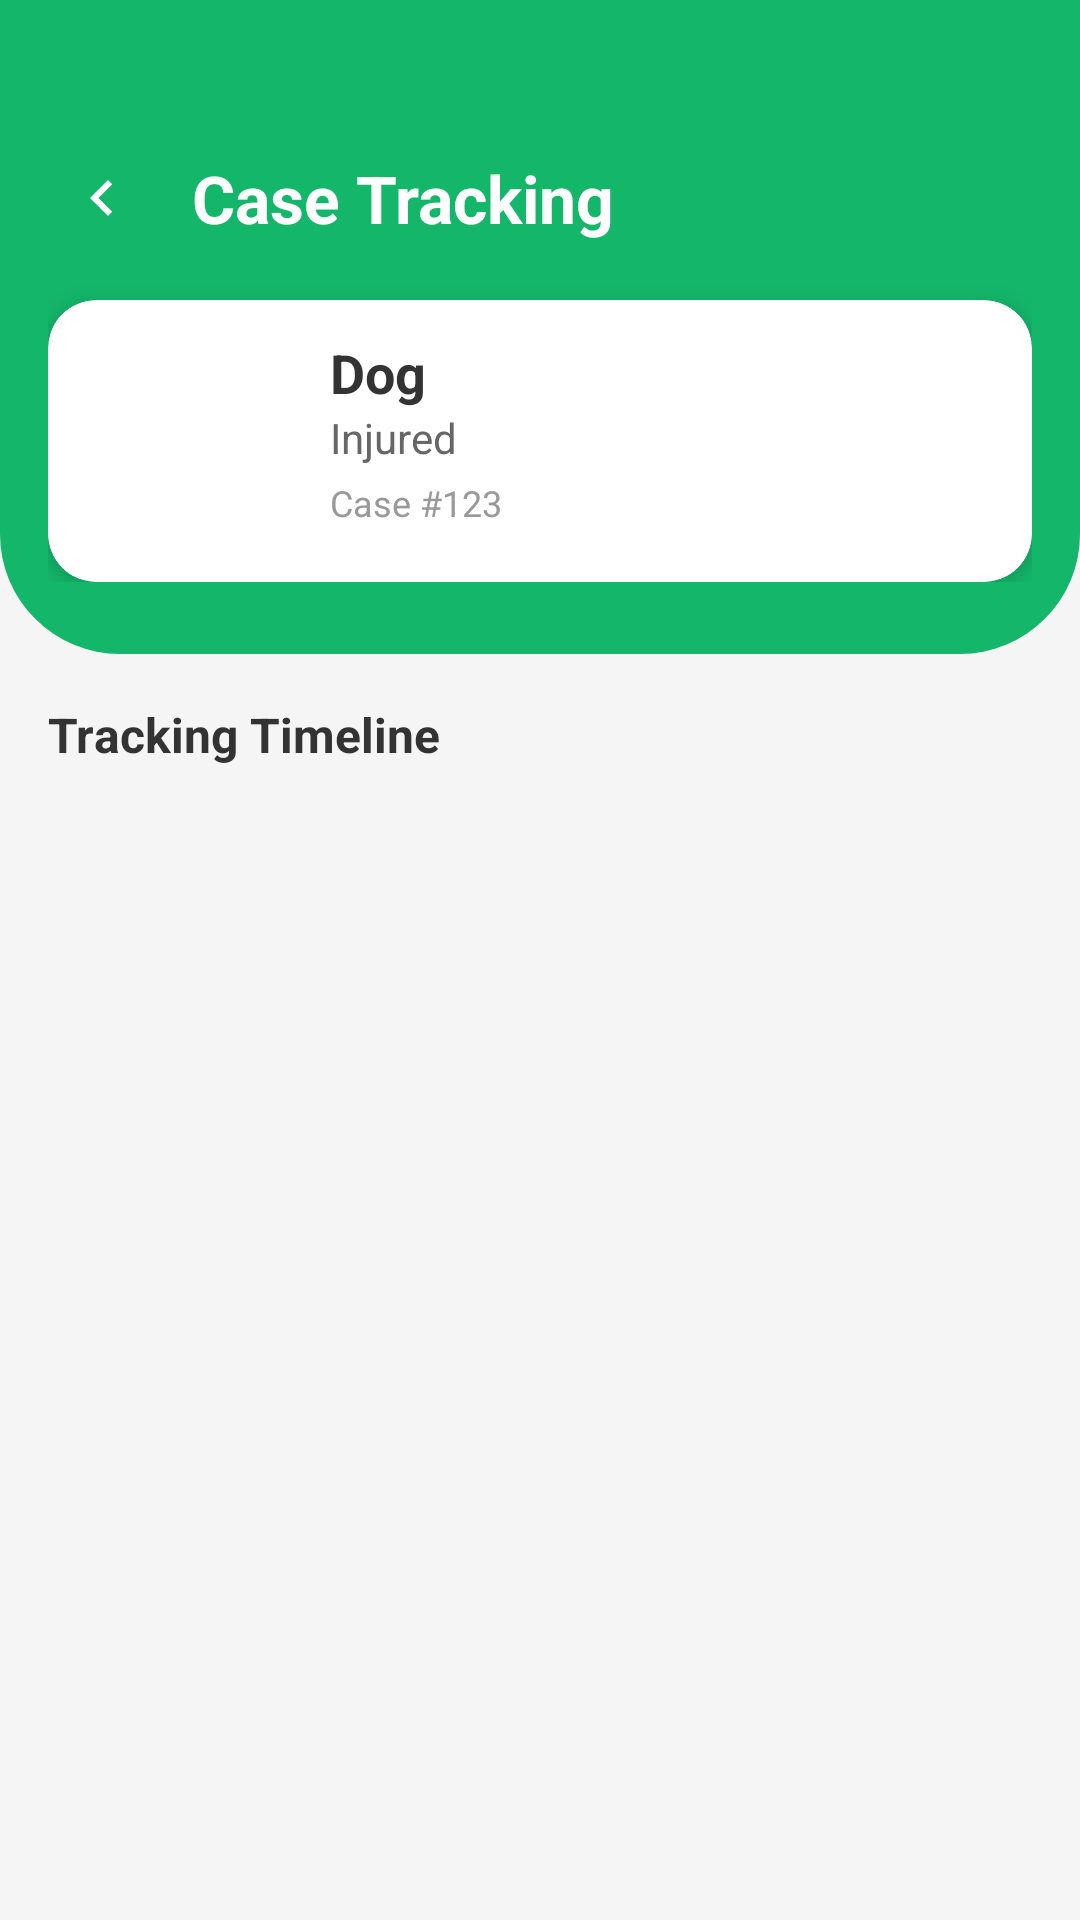

Named icons in this screenshot (1080 × 1920) and their bounding boxes, (x1, y1, x2, y2):
back: (90, 180, 112, 216)
